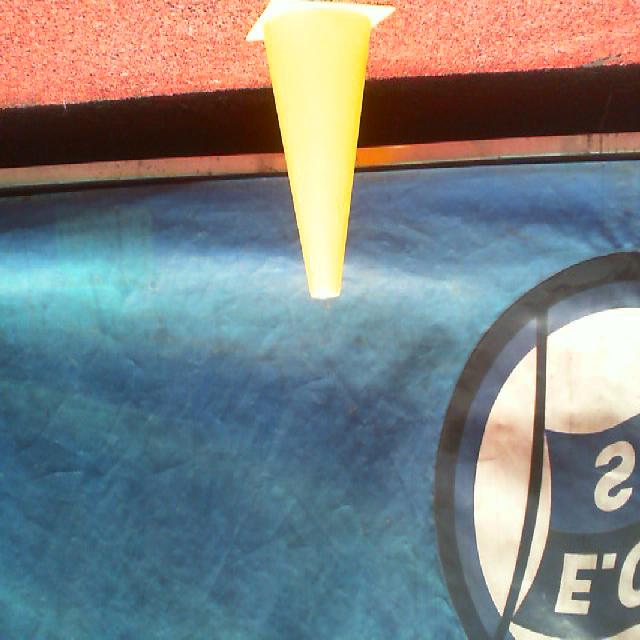cone: (246, 2, 397, 302)
